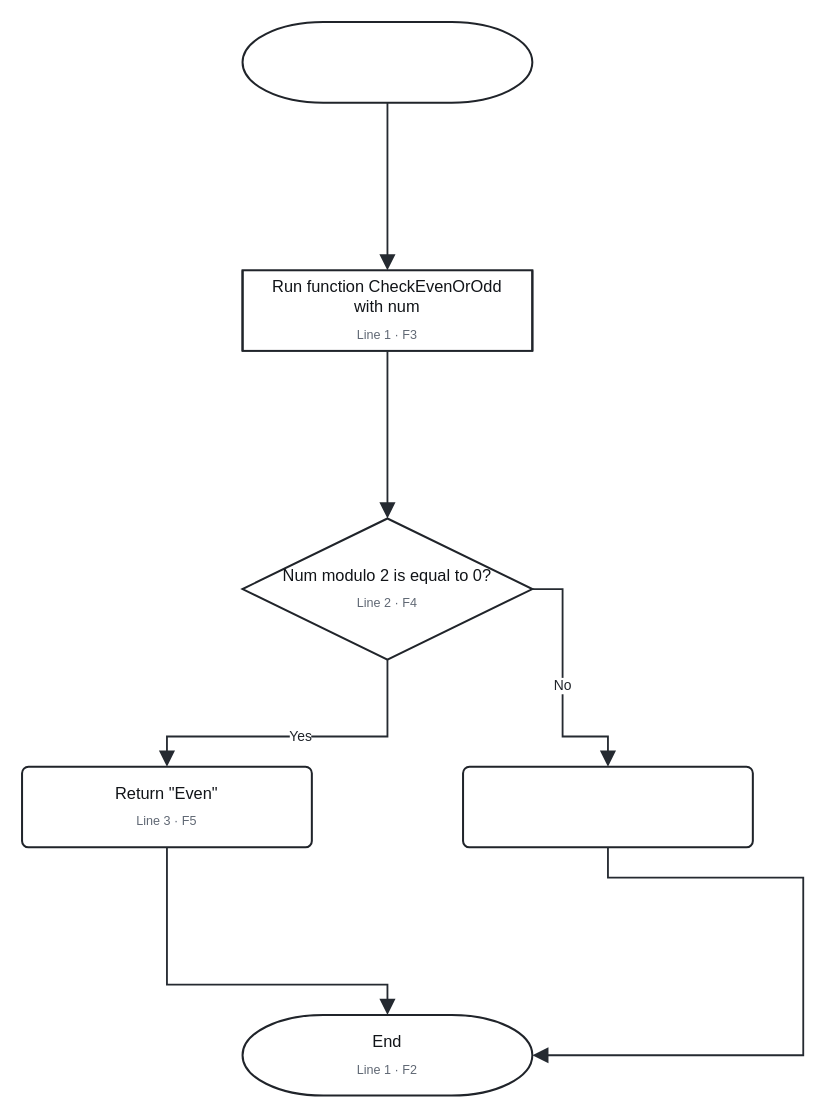
Image size: 840x1119. Some labels were removed from this diagram. Here are the shapes that lost their labels. From the top down, the centre of each, then its label:
[387,61]: Start Line 1 · F1
[607,806]: Return "Odd" Line 5 · F6
